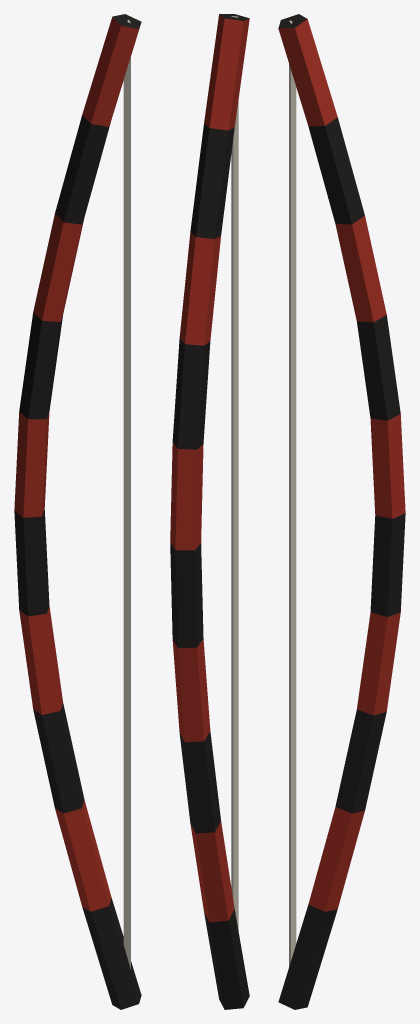
The model's file is gear_yumi.glb.
3 renders of one model, left to right at view 1: azimuth 90°, elevation 25°; view 2: azimuth 150°, elevation 25°; view 3: azimuth 270°, elevation 25°, orthographic.
Parts seen in each view (by area): view 1: gear_yumi; view 2: gear_yumi; view 3: gear_yumi.
Part boxes in pixels (left/top/right/bottom): gear_yumi: left=14, top=14, right=141, bottom=1009; gear_yumi: left=170, top=14, right=249, bottom=1009; gear_yumi: left=278, top=14, right=405, bottom=1009.
Size of the model in its own units: 0.0339 by 1.21 by 0.1411.
